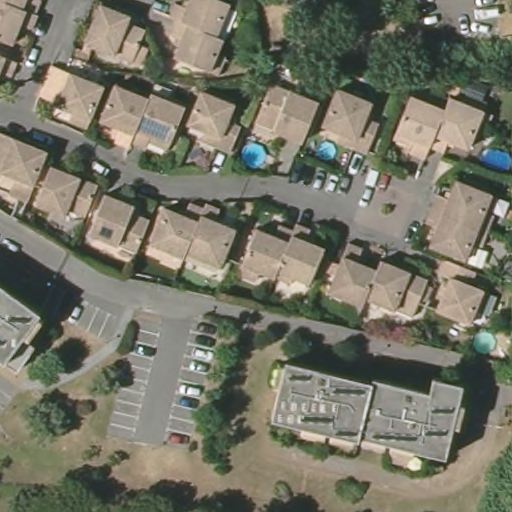pool: (478, 145, 512, 172), (238, 143, 267, 171), (470, 330, 499, 357), (317, 140, 340, 162)
